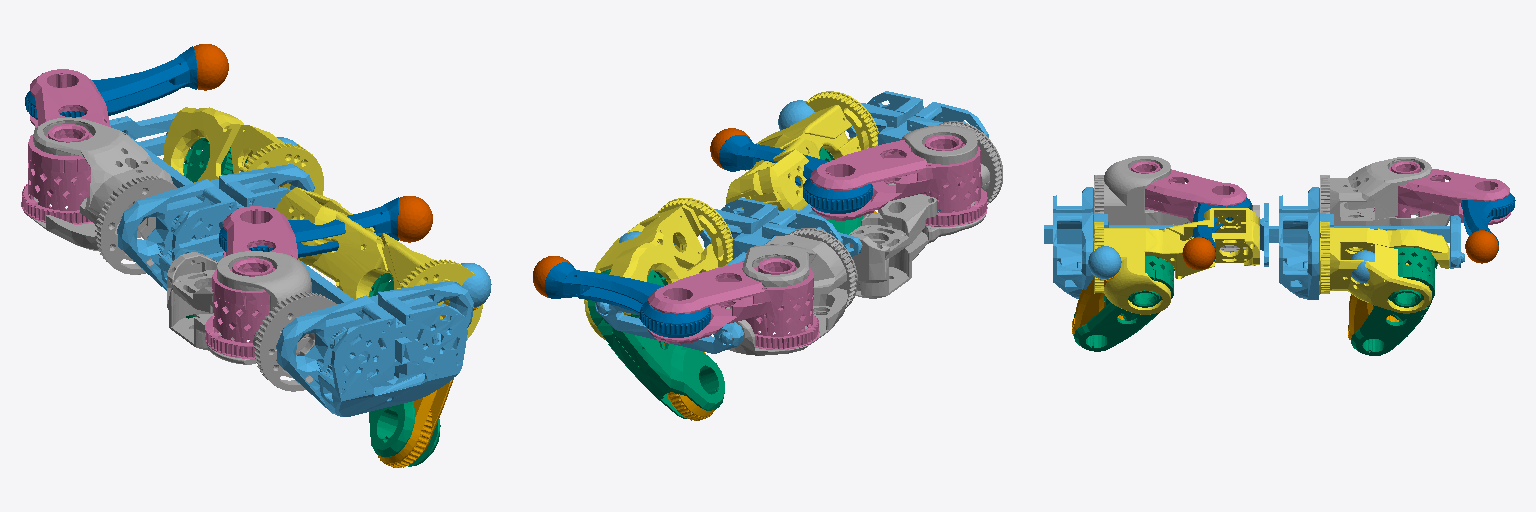
robot.urdf — robodog:
<robot name="robodog" version="1.0">
  <!-- Revolute coordinates are zero-based motor commands: q=0 is the mechanical minimum. -->
  <joint name="back_left_ball_collision_link_joint" type="fixed">
    <origin rpy="-3.14159 -1.57080 0.00000" xyz="0.57902 -0.34558 -0.02243"/>
    <parent link="front_left_bot_leg_link"/>
    <child link="front_left_leg_foot_link"/>
  </joint>
  <joint name="back_left_bot_leg_link_joint" type="revolute">
    <limit lower="0.00000" upper="3.83973" effort="0.00000" velocity="0.00000"/>
    <origin rpy="0.00000000 0.00000000 -1.04720000" xyz="0.35155 0.41990 -0.01402"/>
    <parent link="back_left_mid_leg_link"/>
    <child link="back_left_bot_leg_link"/>
    <axis xyz="0.00000 0.00000 1.00000"/>
  </joint>
  <joint name="back_left_mid_leg_link_joint" type="revolute">
    <limit lower="0.00000" upper="2.41000" effort="0.00000" velocity="1.04720"/>
    <origin rpy="-1.56841381 -1.22999911 -0.00224549" xyz="0.07465 0.13760 -0.49515"/>
    <parent link="back_left_top_leg_link"/>
    <child link="back_left_mid_leg_link"/>
    <axis xyz="0.00000 0.00000 1.00000"/>
  </joint>
  <joint name="back_left_top_leg_link_joint" type="revolute">
    <limit lower="0.00000" upper="2.09440" effort="0.00000" velocity="0.00000"/>
    <origin rpy="-1.57079633 1.04719265 -3.14158633" xyz="0.33081 0.34784 -0.07472"/>
    <parent link="main_link"/>
    <child link="back_left_top_leg_link"/>
    <axis xyz="0.00000 0.00000 1.00000"/>
  </joint>
  <joint name="back_right_ball_collision_link_joint" type="fixed">
    <origin rpy="-3.14159 1.56944 -0.00000" xyz="-0.57920 -0.34558 -0.02371"/>
    <parent link="front_right_bot_leg_link"/>
    <child link="front_right_leg_foot_link"/>
  </joint>
  <joint name="back_right_bot_leg_link_joint" type="revolute">
    <limit lower="0.00000" upper="3.83973" effort="0.00000" velocity="1.04720"/>
    <origin rpy="0.00000000 0.00000000 -2.79253000" xyz="-0.35155 0.41990 -0.01402"/>
    <parent link="back_right_mid_leg_link"/>
    <child link="back_right_bot_leg_link"/>
    <axis xyz="0.00000 0.00000 1.00000"/>
  </joint>
  <joint name="back_right_mid_leg_link_joint" type="revolute">
    <limit lower="0.00000" upper="2.75080" effort="0.00000" velocity="1.04720"/>
    <origin rpy="-1.57077972 -1.18000000 0.01695464" xyz="-0.07698 0.13632 -0.49515"/>
    <parent link="back_right_top_leg_link"/>
    <child link="back_right_mid_leg_link"/>
    <axis xyz="0.00000 0.00000 1.00000"/>
  </joint>
  <joint name="back_right_top_leg_link_joint" type="revolute">
    <limit lower="0.00000" upper="2.09440" effort="0.00000" velocity="0.00000"/>
    <origin rpy="1.57079633 0.00000000 -0.00000633" xyz="-0.33081 0.34784 -0.07472"/>
    <parent link="main_link"/>
    <child link="back_right_top_leg_link"/>
    <axis xyz="0.00000 0.00000 1.00000"/>
  </joint>
  <joint name="front_left_ball_collision_link_joint" type="fixed">
    <origin rpy="-3.14159 -1.57080 0.00000" xyz="0.48243 -0.47826 0.00556"/>
    <parent link="back_left_bot_leg_link"/>
    <child link="back_left_leg_foot_link"/>
  </joint>
  <joint name="front_left_bot_leg_link_joint" type="revolute">
    <limit lower="0.00000" upper="3.89253" effort="0.00000" velocity="0.00000"/>
    <origin rpy="0.00000000 0.00000000 -1.10000000" xyz="0.28599 0.47085 0.08165"/>
    <parent link="front_left_mid_leg_link"/>
    <child link="front_left_bot_leg_link"/>
    <axis xyz="0.00000 0.00000 1.00000"/>
  </joint>
  <joint name="front_left_mid_leg_link_joint" type="revolute">
    <limit lower="0.00000" upper="2.67080" effort="0.00000" velocity="1.04720"/>
    <origin rpy="2.35619449 -1.57079113 2.35619449" xyz="0.07307 0.07389 -0.28308"/>
    <parent link="front_left_top_leg_link"/>
    <child link="front_left_mid_leg_link"/>
    <axis xyz="0.00000 0.00000 1.00000"/>
  </joint>
  <joint name="front_left_top_leg_link_joint" type="revolute">
    <limit lower="0.00000" upper="2.09440" effort="0.00000" velocity="0.00000"/>
    <origin rpy="-1.57079633 1.04719265 3.14158898" xyz="0.33081 -1.00714 -0.07472"/>
    <parent link="main_link"/>
    <child link="front_left_top_leg_link"/>
    <axis xyz="0.00000 0.00000 1.00000"/>
  </joint>
  <joint name="front_right_ball_collision_link_joint" type="fixed">
    <origin rpy="0.00000 1.55383 3.14159" xyz="-0.48011 -0.47826 0.02096"/>
    <parent link="back_right_bot_leg_link"/>
    <child link="back_right_leg_foot_link"/>
  </joint>
  <joint name="front_right_bot_leg_link_joint" type="revolute">
    <limit lower="0.00000" upper="3.89253" effort="0.00000" velocity="0.00000"/>
    <origin rpy="0.00000000 0.00000000 -2.79253000" xyz="-0.28599 0.47085 0.08165"/>
    <parent link="front_right_mid_leg_link"/>
    <child link="front_right_bot_leg_link"/>
    <axis xyz="0.00000 0.00000 1.00000"/>
  </joint>
  <joint name="front_right_mid_leg_link_joint" type="revolute">
    <limit lower="0.00000" upper="2.67080" effort="0.00000" velocity="1.04720"/>
    <origin rpy="-1.57080442 -1.10000000 -0.00135278" xyz="-0.07297 0.07399 -0.28308"/>
    <parent link="front_right_top_leg_link"/>
    <child link="front_right_mid_leg_link"/>
    <axis xyz="0.00000 0.00000 1.00000"/>
  </joint>
  <joint name="front_right_top_leg_link_joint" type="revolute">
    <limit lower="0.00000" upper="2.09440" effort="0.00000" velocity="0.00000"/>
    <origin rpy="1.57079633 0.00000000 0.00000367" xyz="-0.33081 -1.00714 -0.07472"/>
    <parent link="main_link"/>
    <child link="front_right_top_leg_link"/>
    <axis xyz="0.00000 0.00000 1.00000"/>
  </joint>
  <joint name="main_link_joint" type="fixed">
    <origin rpy="0.00000 0.00000 0.00000" xyz="0.00000 0.00000 1.00000"/>
    <parent link="link_root"/>
    <child link="main_link"/>
  </joint>
  <link name="back_left_bot_leg_link">
    <collision name="back_left_bot_leg_collision">
      <origin rpy="-0.87266 -1.57080 0.00000" xyz="0.28539 -0.23943 0.00831"/>
      <geometry>
        <cylinder radius="0.10289" length="0.37440"/>
      </geometry>
    </collision>
    <collision name="back_left_mid_leg_collision">
      <origin rpy="0.00000 -0.00000 0.00000" xyz="0.00439 -0.00145 0.00327"/>
      <geometry>
        <cylinder radius="0.16016" length="0.14640"/>
      </geometry>
    </collision>
    <inertial>
      <inertia ixx="0.07860" ixy="-0.00002" ixz="-0.00001" iyy="0.04018" iyz="-0.03551" izz="0.04046"/>
      <origin rpy="0.00000 0.00000 0.00000" xyz="0.23583 -0.21523 0.00786"/>
      <mass value="1.00000"/>
    </inertial>
    <visual name="back_left_bot_leg">
      <origin rpy="-0.00010 -1.54462 0.00010" xyz="0.21128 -0.20989 0.01557"/>
      <geometry>
        <mesh filename="../meshes/stl/repaired/back_left_bot_leg_mesh.stl" scale="1.00000 1.00000 1.00000"/>
      </geometry>
    </visual>
  </link>
  <link name="back_left_leg_foot_link">
    <collision name="back_left_ball_collision">
      <origin rpy="3.14159 0.00000 0.00000" xyz="0.00397 -0.00000 0.00000"/>
      <geometry>
        <sphere radius="0.10444"/>
      </geometry>
    </collision>
    <visual name="back_left_bot_foot">
      <origin rpy="3.14159 -0.02618 -0.00000" xyz="0.01001 -0.26837 -0.27116"/>
      <geometry>
        <mesh filename="../meshes/stl/repaired/back_left_foot_mesh.stl" scale="1.00000 1.00000 1.00000"/>
      </geometry>
    </visual>
  </link>
  <link name="back_left_mid_leg_link">
    <collision name="back_left_midtop_leg_collision">
      <origin rpy="0.00000 -0.00000 0.00000" xyz="0.12957 0.20702 0.02877"/>
      <geometry>
        <cylinder radius="0.14306" length="0.15862"/>
      </geometry>
    </collision>
    <inertial>
      <inertia ixx="0.05674" ixy="-0.00788" ixz="0.00556" iyy="0.03135" iyz="0.02133" izz="0.04108"/>
      <origin rpy="0.00000 0.00000 0.00000" xyz="0.09536 0.12817 -0.04920"/>
      <mass value="1.00000"/>
    </inertial>
    <visual name="back_left_mid_leg">
      <origin rpy="-0.00010 -1.54462 0.00010" xyz="0.15942 0.18959 -0.05785"/>
      <geometry>
        <mesh filename="../meshes/stl/repaired/back_left_mid_leg_mesh.stl" scale="1.00000 1.00000 1.00000"/>
      </geometry>
    </visual>
  </link>
  <link name="back_left_top_leg_link">
    <collision name="back_left_top_leg_collision">
      <origin rpy="0.00000 -0.00001 1.57080" xyz="-0.00021 0.00118 -0.36525"/>
      <geometry>
        <cylinder radius="0.22085" length="0.77385"/>
      </geometry>
    </collision>
    <inertial>
      <inertia ixx="0.08059" ixy="0.00012" ixz="-0.00066" iyy="0.02076" iyz="0.00467" izz="0.08146"/>
      <origin rpy="0.00000 0.00000 0.00000" xyz="0.00782 0.02495 -0.25191"/>
      <mass value="1.00000"/>
    </inertial>
    <visual name="back_left_top_leg">
      <origin rpy="-1.57080 -0.00000 1.54462" xyz="0.03016 0.02291 -0.36756"/>
      <geometry>
        <mesh filename="../meshes/stl/repaired/back_left_top_leg_mesh.stl" scale="1.00000 1.00000 1.00000"/>
      </geometry>
    </visual>
  </link>
  <link name="back_right_bot_leg_link">
    <collision name="back_right_bot_leg_collision">
      <origin rpy="2.26893 1.55383 3.14159" xyz="-0.28305 -0.23943 0.02037"/>
      <geometry>
        <cylinder radius="0.10289" length="0.37440"/>
      </geometry>
    </collision>
    <collision name="back_right_mid_leg_collision">
      <origin rpy="-3.14159 -0.01697 3.14159" xyz="-0.00218 -0.00145 0.01056"/>
      <geometry>
        <cylinder radius="0.16016" length="0.14640"/>
      </geometry>
    </collision>
    <inertial>
      <inertia ixx="0.07810" ixy="0.00002" ixz="0.00000" iyy="0.03997" iyz="-0.03527" izz="0.04018"/>
      <origin rpy="0.00000 0.00000 0.00000" xyz="-0.23350 -0.21520 0.01908"/>
      <mass value="1.00000"/>
    </inertial>
    <visual name="back_right_bot_leg">
      <origin rpy="3.14153 1.52765 3.14153" xyz="-0.20910 -0.20989 0.01206"/>
      <geometry>
        <mesh filename="../meshes/stl/repaired/back_right_bot_leg_mesh.stl" scale="1.00000 1.00000 1.00000"/>
      </geometry>
    </visual>
  </link>
  <link name="back_right_leg_foot_link">
    <collision name="back_right_ball_collision">
      <origin rpy="3.14159 -0.00000 0.00000" xyz="-0.00397 -0.00000 -0.00000"/>
      <geometry>
        <sphere radius="0.10444"/>
      </geometry>
    </collision>
    <visual name="back_right_bot_foot">
      <origin rpy="3.14159 -0.02618 -0.00000" xyz="0.00430 -0.26837 -0.27113"/>
      <geometry>
        <mesh filename="../meshes/stl/repaired/back_right_foot_mesh.stl" scale="1.00000 1.00000 1.00000"/>
      </geometry>
    </visual>
  </link>
  <link name="back_right_mid_leg_link">
    <collision name="back_right_midtop_leg_collision">
      <origin rpy="-3.14159 -0.01697 3.14159" xyz="-0.12671 0.20702 0.03221"/>
      <geometry>
        <cylinder radius="0.14306" length="0.15862"/>
      </geometry>
    </collision>
    <inertial>
      <inertia ixx="0.05664" ixy="0.00785" ixz="-0.00553" iyy="0.03131" iyz="0.02128" izz="0.04103"/>
      <origin rpy="0.00000 0.00000 0.00000" xyz="-0.09365 0.12792 -0.04630"/>
      <mass value="1.00000"/>
    </inertial>
    <visual name="back_right_mid_leg">
      <origin rpy="3.14153 1.52765 3.14153" xyz="-0.15865 0.18959 -0.04542"/>
      <geometry>
        <mesh filename="../meshes/stl/repaired/back_right_mid_leg_mesh.stl" scale="1.00000 1.00000 1.00000"/>
      </geometry>
    </visual>
  </link>
  <link name="back_right_top_leg_link">
    <collision name="back_right_top_leg_collision">
      <origin rpy="-0.00000 0.00001 -1.57080" xyz="-0.00340 -0.00246 -0.36525"/>
      <geometry>
        <cylinder radius="0.22085" length="0.77385"/>
      </geometry>
    </collision>
    <inertial>
      <inertia ixx="0.08039" ixy="-0.00023" ixz="0.00068" iyy="0.02070" iyz="0.00445" izz="0.08129"/>
      <origin rpy="0.00000 0.00000 0.00000" xyz="-0.00883 0.02380 -0.25155"/>
      <mass value="1.00000"/>
    </inertial>
    <visual name="back_right_top_leg">
      <origin rpy="-1.57080 0.00001 -1.59698" xyz="-0.02730 0.02285 -0.36756"/>
      <geometry>
        <mesh filename="../meshes/stl/repaired/back_right_top_leg_mesh.stl" scale="1.00000 1.00000 1.00000"/>
      </geometry>
    </visual>
  </link>
  <link name="front_left_bot_leg_link">
    <collision name="front_left_bot_leg_collision">
      <origin rpy="-0.64577 -1.57080 0.00000" xyz="0.31891 -0.18141 -0.02352"/>
      <geometry>
        <cylinder radius="0.10671" length="0.38831"/>
      </geometry>
    </collision>
    <collision name="front_left_mid_leg_collision">
      <origin rpy="0.00000 -0.00000 0.00000" xyz="0.00450 -0.00054 -0.02091"/>
      <geometry>
        <cylinder radius="0.16262" length="0.15749"/>
      </geometry>
    </collision>
    <inertial>
      <inertia ixx="0.07797" ixy="-0.00003" ixz="-0.00003" iyy="0.05701" iyz="-0.03084" izz="0.02301"/>
      <origin rpy="0.00000 0.00000 0.00000" xyz="0.27791 -0.15277 -0.02568"/>
      <mass value="1.00000"/>
    </inertial>
    <visual name="front_left_bot_leg">
      <origin rpy="-0.00010 -1.54462 0.00010" xyz="0.25931 -0.14436 -0.01720"/>
      <geometry>
        <mesh filename="../meshes/stl/repaired/front_left_bot_leg_mesh.stl" scale="1.00000 1.00000 1.00000"/>
      </geometry>
    </visual>
  </link>
  <link name="front_left_leg_foot_link">
    <collision name="front_left_ball_collision">
      <origin rpy="3.14159 0.00000 0.00000" xyz="-0.00397 -0.00000 -0.00000"/>
      <geometry>
        <sphere radius="0.10458"/>
      </geometry>
    </collision>
    <visual name="front_left_bot_foot">
      <origin rpy="3.14159 -0.02618 -0.00000" xyz="0.00523 -0.20122 -0.31971"/>
      <geometry>
        <mesh filename="../meshes/stl/repaired/front_left_foot_mesh.stl" scale="1.00000 1.00000 1.00000"/>
      </geometry>
    </visual>
  </link>
  <link name="front_left_mid_leg_link">
    <collision name="front_left_midtop_leg_collision">
      <origin rpy="0.00000 -0.00000 0.00000" xyz="0.11676 0.23371 0.07240"/>
      <geometry>
        <cylinder radius="0.14307" length="0.17878"/>
      </geometry>
    </collision>
    <inertial>
      <inertia ixx="0.05749" ixy="-0.00890" ixz="0.00445" iyy="0.02547" iyz="0.01921" izz="0.04794"/>
      <origin rpy="0.00000 0.00000 0.00000" xyz="0.07472 0.14082 0.01332"/>
      <mass value="1.00000"/>
    </inertial>
    <visual name="front_left_mid_leg">
      <origin rpy="-0.00010 -1.54462 0.00010" xyz="0.12759 0.21603 0.00750"/>
      <geometry>
        <mesh filename="../meshes/stl/repaired/front_left_mid_leg_mesh.stl" scale="1.00000 1.00000 1.00000"/>
      </geometry>
    </visual>
  </link>
  <link name="front_left_top_leg_link">
    <collision name="front_left_top_leg_collision">
      <origin rpy="0.00000 0.00000 1.57080" xyz="-0.00111 -0.00073 -0.35048"/>
      <geometry>
        <cylinder radius="0.21890" length="1.01216"/>
      </geometry>
    </collision>
    <inertial>
      <inertia ixx="0.09603" ixy="0.01986" ixz="0.00048" iyy="0.02116" iyz="-0.00144" izz="0.10396"/>
      <origin rpy="0.00000 0.00000 0.00000" xyz="0.00219 -0.03903 -0.39151"/>
      <mass value="1.00000"/>
    </inertial>
    <visual name="front_left_top_leg">
      <origin rpy="-1.57080 0.00000 1.54462" xyz="0.02893 -0.01419 -0.47504"/>
      <geometry>
        <mesh filename="../meshes/stl/repaired/front_left_top_leg_mesh.stl" scale="1.00000 1.00000 1.00000"/>
      </geometry>
    </visual>
  </link>
  <link name="front_right_bot_leg_link">
    <collision name="front_right_bot_leg_collision">
      <origin rpy="-0.64577 1.56944 0.00000" xyz="-0.31909 -0.18141 -0.02444"/>
      <geometry>
        <cylinder radius="0.10671" length="0.38831"/>
      </geometry>
    </collision>
    <collision name="front_right_mid_leg_collision">
      <origin rpy="3.14159 0.00136 3.14159" xyz="-0.00468 -0.00054 -0.02140"/>
      <geometry>
        <cylinder radius="0.16262" length="0.15749"/>
      </geometry>
    </collision>
    <inertial>
      <inertia ixx="0.07791" ixy="0.00002" ixz="0.00002" iyy="0.05692" iyz="-0.03083" izz="0.02304"/>
      <origin rpy="0.00000 0.00000 0.00000" xyz="-0.27795 -0.15265 -0.02662"/>
      <mass value="1.00000"/>
    </inertial>
    <visual name="front_right_bot_leg">
      <origin rpy="3.14149 1.54598 3.14149" xyz="-0.25948 -0.14436 -0.03505"/>
      <geometry>
        <mesh filename="../meshes/stl/repaired/front_right_bot_leg_mesh.stl" scale="1.00000 1.00000 1.00000"/>
      </geometry>
    </visual>
  </link>
  <link name="front_right_leg_foot_link">
    <collision name="front_right_ball_collision">
      <origin rpy="3.14159 -0.00000 0.00000" xyz="0.00397 0.00000 -0.00000"/>
      <geometry>
        <sphere radius="0.10458"/>
      </geometry>
    </collision>
    <visual name="front_right_bot_foot">
      <origin rpy="3.14159 -0.02618 -0.00000" xyz="0.01178 -0.20122 -0.31970"/>
      <geometry>
        <mesh filename="../meshes/stl/repaired/front_right_foot_mesh.stl" scale="1.00000 1.00000 1.00000"/>
      </geometry>
    </visual>
  </link>
  <link name="front_right_mid_leg_link">
    <collision name="front_right_midtop_leg_collision">
      <origin rpy="3.14159 0.00136 3.14159" xyz="-0.11696 0.23371 0.07215"/>
      <geometry>
        <cylinder radius="0.14307" length="0.17878"/>
      </geometry>
    </collision>
    <inertial>
      <inertia ixx="0.05738" ixy="0.00883" ixz="-0.00441" iyy="0.02543" iyz="0.01916" izz="0.04780"/>
      <origin rpy="0.00000 0.00000 0.00000" xyz="-0.07494 0.14106 0.01311"/>
      <mass value="1.00000"/>
    </inertial>
    <visual name="front_right_mid_leg">
      <origin rpy="3.14149 1.54598 3.14149" xyz="-0.12821 0.21603 0.01365"/>
      <geometry>
        <mesh filename="../meshes/stl/repaired/front_right_mid_leg_mesh.stl" scale="1.00000 1.00000 1.00000"/>
      </geometry>
    </visual>
  </link>
  <link name="front_right_top_leg_link">
    <collision name="front_right_top_leg_collision">
      <origin rpy="-0.00000 -0.00000 -1.57080" xyz="0.00113 -0.00147 -0.35048"/>
      <geometry>
        <cylinder radius="0.21890" length="1.01216"/>
      </geometry>
    </collision>
    <inertial>
      <inertia ixx="0.09571" ixy="-0.01986" ixz="-0.00048" iyy="0.02117" iyz="-0.00137" izz="0.10365"/>
      <origin rpy="0.00000 0.00000 0.00000" xyz="-0.00231 -0.03895 -0.39094"/>
      <mass value="1.00000"/>
    </inertial>
    <visual name="front_right_top_leg">
      <origin rpy="-1.57080 0.00000 -1.59698" xyz="-0.02715 -0.01418 -0.47504"/>
      <geometry>
        <mesh filename="../meshes/stl/repaired/front_right_top_leg_mesh.stl" scale="1.00000 1.00000 1.00000"/>
      </geometry>
    </visual>
  </link>
  <link name="link_root"/>
  <link name="main_link">
    <collision name="main_collision">
      <origin rpy="0.00000 0.00000 0.00000" xyz="0.00237 -0.06618 -0.14242"/>
      <geometry>
        <box size="1.10281 2.56115 0.48185"/>
      </geometry>
    </collision>
    <inertial>
      <inertia ixx="0.44046" ixy="-0.00211" ixz="-0.00040" iyy="0.03746" iyz="-0.00736" izz="0.45659"/>
      <origin rpy="0.00000 0.00000 0.00000" xyz="-0.01311 -0.27379 -0.14279"/>
      <mass value="1.00000"/>
    </inertial>
    <visual name="main">
      <origin rpy="0.00000 0.00000 0.00000" xyz="0.00000 -0.07960 -0.17250"/>
      <geometry>
        <mesh filename="../meshes/stl/repaired/main_mesh.stl" scale="1.00000 1.00000 1.00000"/>
      </geometry>
    </visual>
  </link>
</robot>

--- What the picture shows (computed from the rendered views, not written in the file) ---
3 views of the same robot in one strip: view 1: azimuth 30°, elevation 25°; view 2: azimuth 150°, elevation 25°; view 3: azimuth 270°, elevation 25° (orthographic).
Robot: robodog — 18 links, 17 joints (12 revolute, 5 fixed); root link link_root; default pose: all joints at 0.
Links seen in each view (by area): view 1: main_link, front_right_top_leg_link, back_right_top_leg_link, front_left_top_leg_link, back_right_mid_leg_link, front_right_mid_leg_link, back_left_top_leg_link, back_right_bot_leg_link, front_right_bot_leg_link, front_left_mid_leg_link, front_left_bot_leg_link, front_right_leg_foot_link (+3 smaller); view 2: front_right_top_leg_link, back_right_mid_leg_link, main_link, front_right_mid_leg_link, front_left_top_leg_link, back_left_top_leg_link, back_right_top_leg_link, back_left_mid_leg_link, back_right_bot_leg_link, front_right_bot_leg_link, back_left_bot_leg_link, front_left_leg_foot_link (+1 smaller); view 3: main_link, front_left_top_leg_link, back_left_top_leg_link, back_right_top_leg_link, back_right_mid_leg_link, front_right_top_leg_link, back_left_mid_leg_link, front_right_mid_leg_link, front_left_mid_leg_link, back_right_bot_leg_link, front_left_bot_leg_link, back_right_leg_foot_link (+4 smaller).
Boxes of the visible links, left/top/right/bottom form: main_link: left=109, top=112, right=473, bottom=416; front_right_top_leg_link: left=167, top=251, right=336, bottom=391; back_right_top_leg_link: left=25, top=117, right=176, bottom=274; front_left_top_leg_link: left=275, top=187, right=482, bottom=339; back_right_mid_leg_link: left=21, top=69, right=110, bottom=224; front_right_mid_leg_link: left=205, top=206, right=297, bottom=358; back_left_top_leg_link: left=163, top=107, right=323, bottom=198; back_right_bot_leg_link: left=25, top=46, right=197, bottom=119; front_right_bot_leg_link: left=219, top=197, right=398, bottom=257; front_left_mid_leg_link: left=369, top=273, right=440, bottom=466; front_left_bot_leg_link: left=378, top=303, right=477, bottom=467; front_right_leg_foot_link: left=398, top=196, right=432, bottom=242; front_right_top_leg_link: left=849, top=121, right=1002, bottom=298; back_right_mid_leg_link: left=648, top=258, right=819, bottom=349; main_link: left=595, top=91, right=988, bottom=353; front_right_mid_leg_link: left=810, top=135, right=987, bottom=226; front_left_top_leg_link: left=726, top=91, right=878, bottom=210; back_left_top_leg_link: left=584, top=198, right=732, bottom=339; back_right_top_leg_link: left=726, top=228, right=857, bottom=355; back_left_mid_leg_link: left=587, top=269, right=724, bottom=418; back_right_bot_leg_link: left=545, top=262, right=710, bottom=337; front_right_bot_leg_link: left=719, top=135, right=872, bottom=213; back_left_bot_leg_link: left=664, top=343, right=714, bottom=420; front_left_leg_foot_link: left=778, top=100, right=814, bottom=130; main_link: left=1044, top=187, right=1464, bottom=299; front_left_top_leg_link: left=1094, top=208, right=1259, bottom=314; back_left_top_leg_link: left=1320, top=221, right=1449, bottom=313; back_right_top_leg_link: left=1320, top=157, right=1449, bottom=225; back_right_mid_leg_link: left=1373, top=161, right=1510, bottom=224; front_right_top_leg_link: left=1094, top=156, right=1259, bottom=252; back_left_mid_leg_link: left=1351, top=247, right=1437, bottom=355; front_right_mid_leg_link: left=1129, top=161, right=1246, bottom=223; front_left_mid_leg_link: left=1074, top=256, right=1174, bottom=351; back_right_bot_leg_link: left=1461, top=193, right=1515, bottom=250; front_left_bot_leg_link: left=1072, top=273, right=1124, bottom=335; back_right_leg_foot_link: left=1465, top=230, right=1498, bottom=263.
Bounding box of the posed robot: 1.26 × 2.83 × 0.9903 m (x, y, z).
Meshes: 17 distinct files referenced, 17 mesh visuals loaded (17 binary STL).
